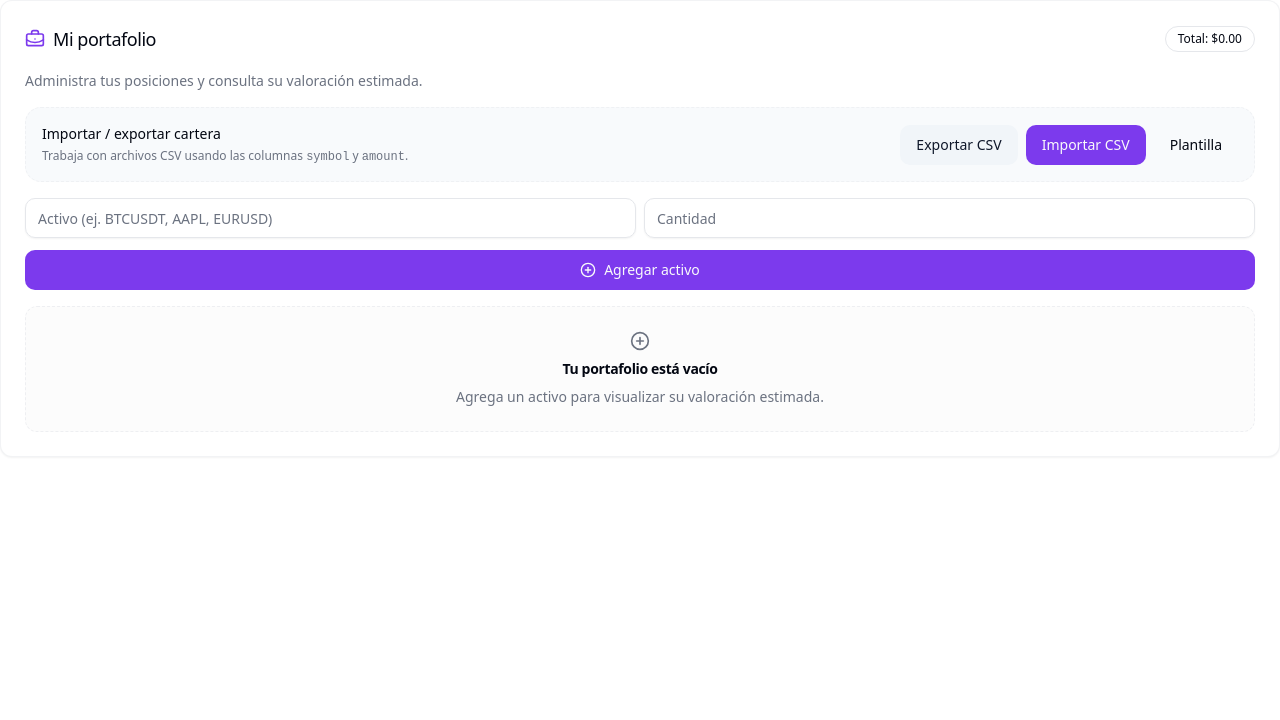
it: PortfolioPanel › descarga el CSV al exportar
Click the button "Exportar CSV" at (959, 144), box [900,124,1018,164]
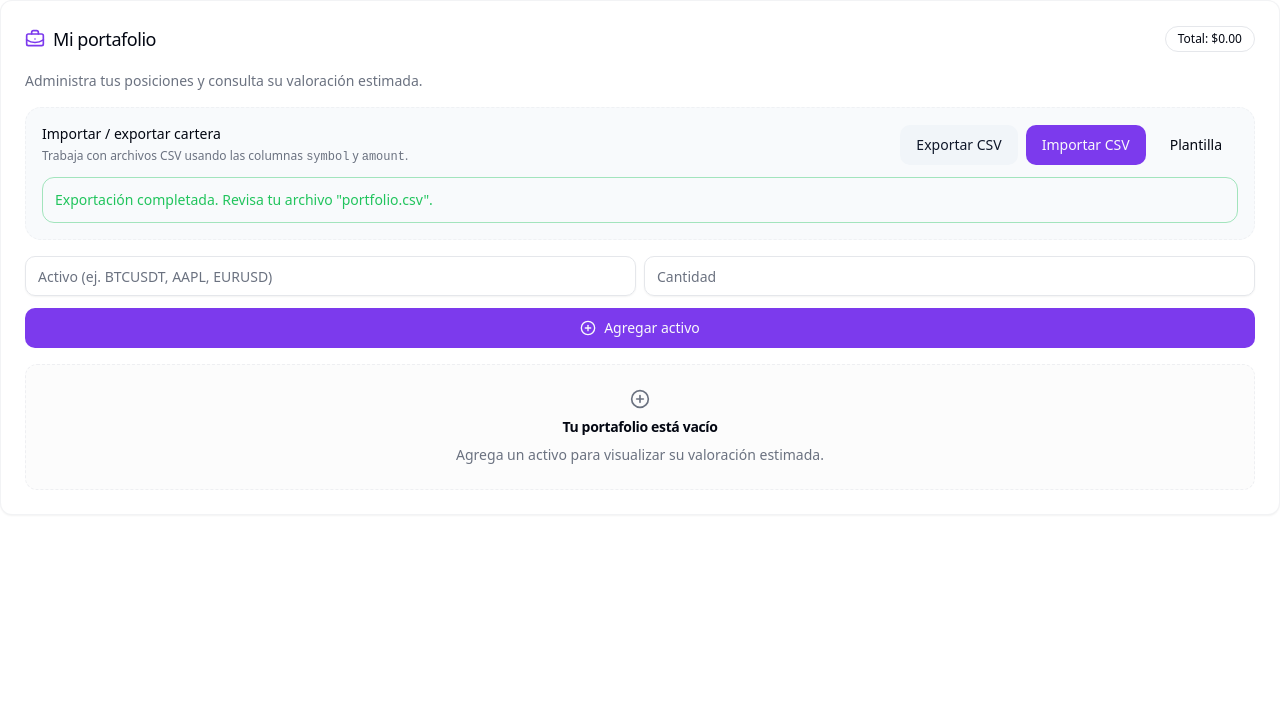
Expected: the text "Exportación completada. Revisa tu archivo \"portfolio.csv\"." is shown, [55,190,433,209]
